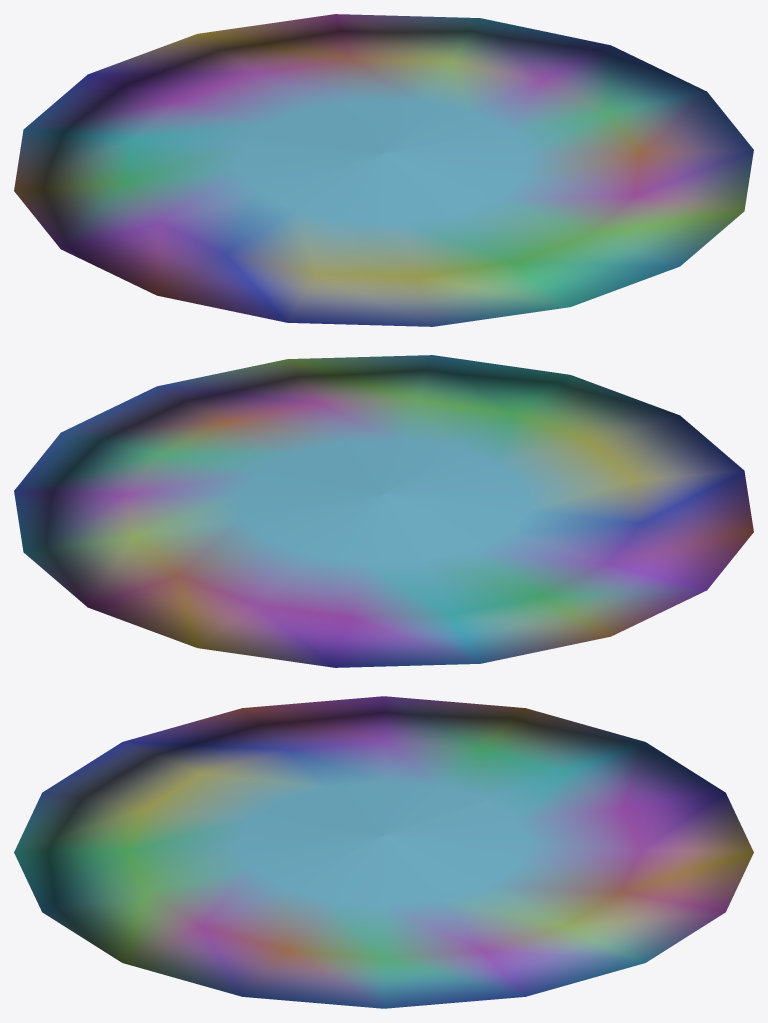
Rendered from space-galaxies-galaxy_v7.glb.
3 views of the same model, one above another, from view 1: azimuth 30°, elevation 25°; view 2: azimuth 150°, elevation 25°; view 3: azimuth 270°, elevation 25° (orthographic).
Parts seen in each view (by area): view 1: Galaxy_v7; view 2: Galaxy_v7; view 3: Galaxy_v7.
Boxes of the visible parts, x1,y1,x2,y2 form: Galaxy_v7: [14, 14, 753, 326]; Galaxy_v7: [14, 355, 753, 667]; Galaxy_v7: [14, 696, 753, 1008].
Bounding box in the file's own units: 0.4998 × 0.0229 × 0.5.
